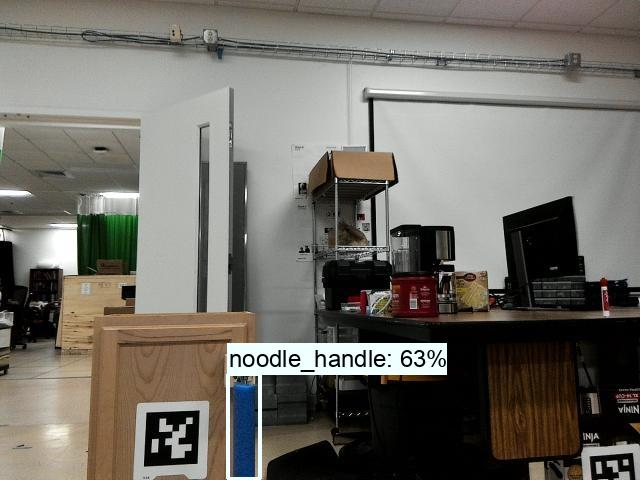noodle_handle: (229, 379, 259, 480)
